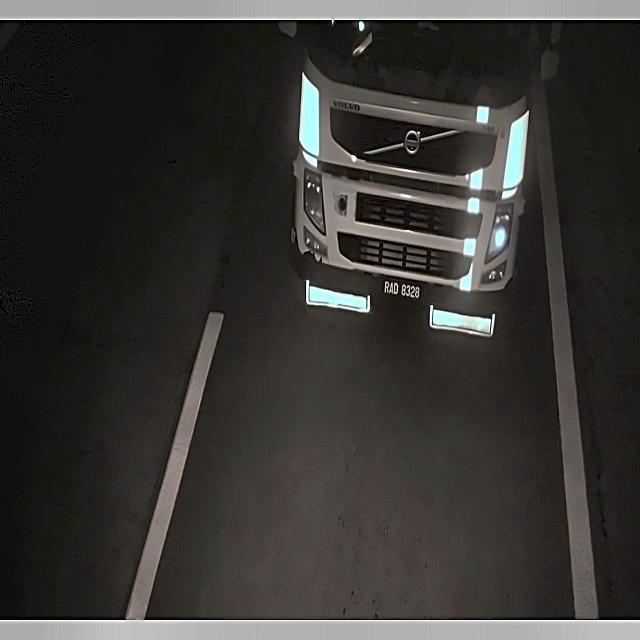car: (378, 272, 426, 308)
